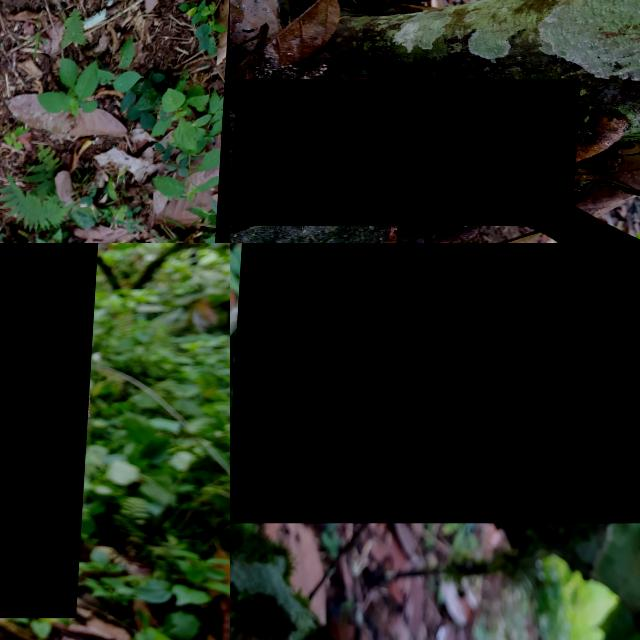Fitoftora: (0, 243, 101, 618)
Monilia: (231, 243, 640, 523), (233, 80, 584, 226)
